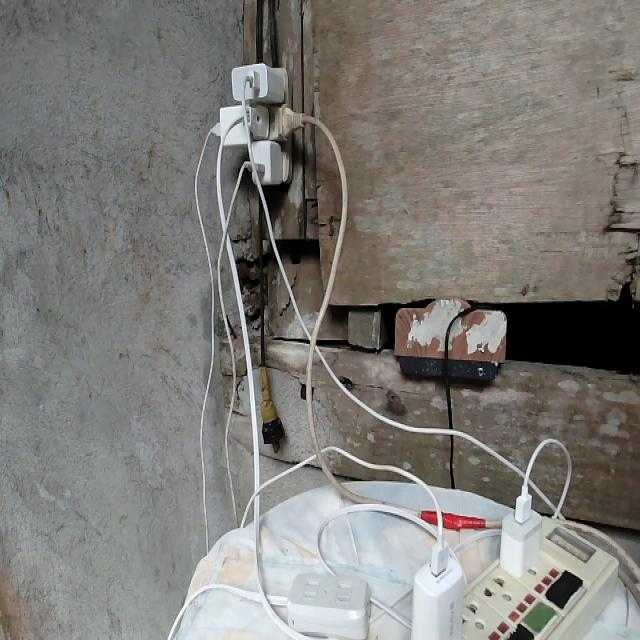-: (209, 61, 306, 187)
